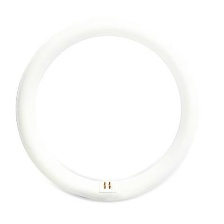light_bulb: (12, 17, 200, 204)
